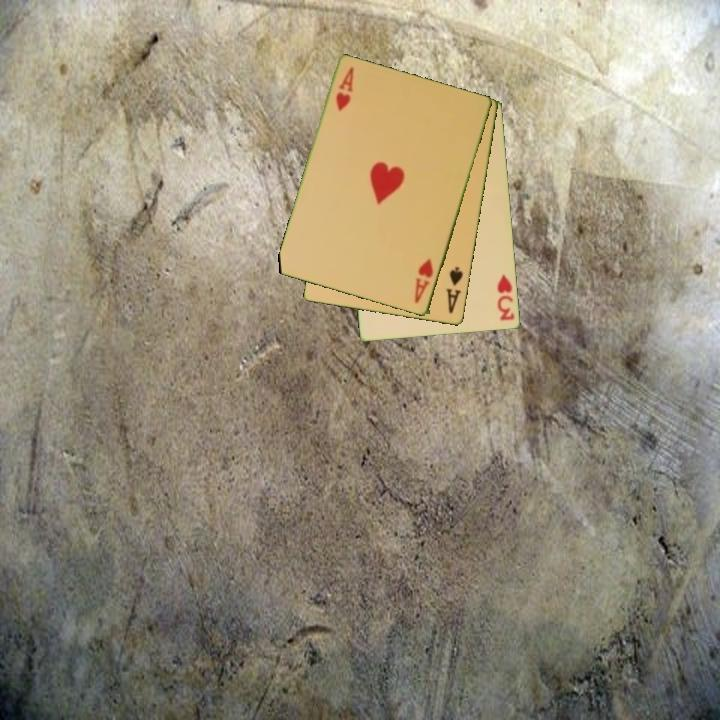3h: (494, 271, 517, 324)
Ah: (411, 255, 436, 307), (332, 64, 357, 115)
As: (443, 263, 466, 316)
